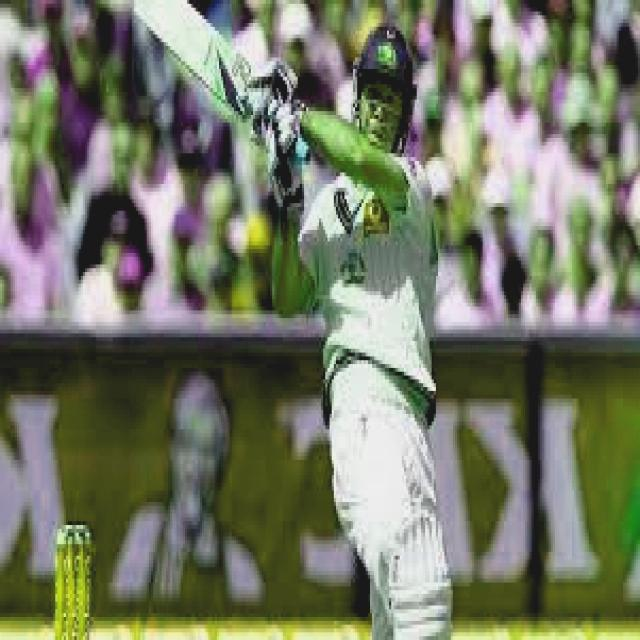toe: (129, 0, 190, 20)
